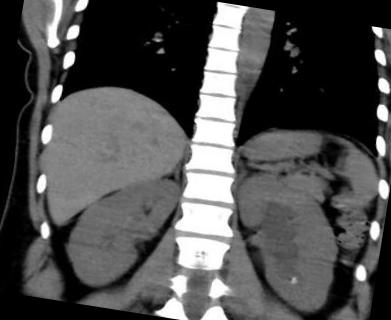Tas_Var: (288, 274, 300, 288)
